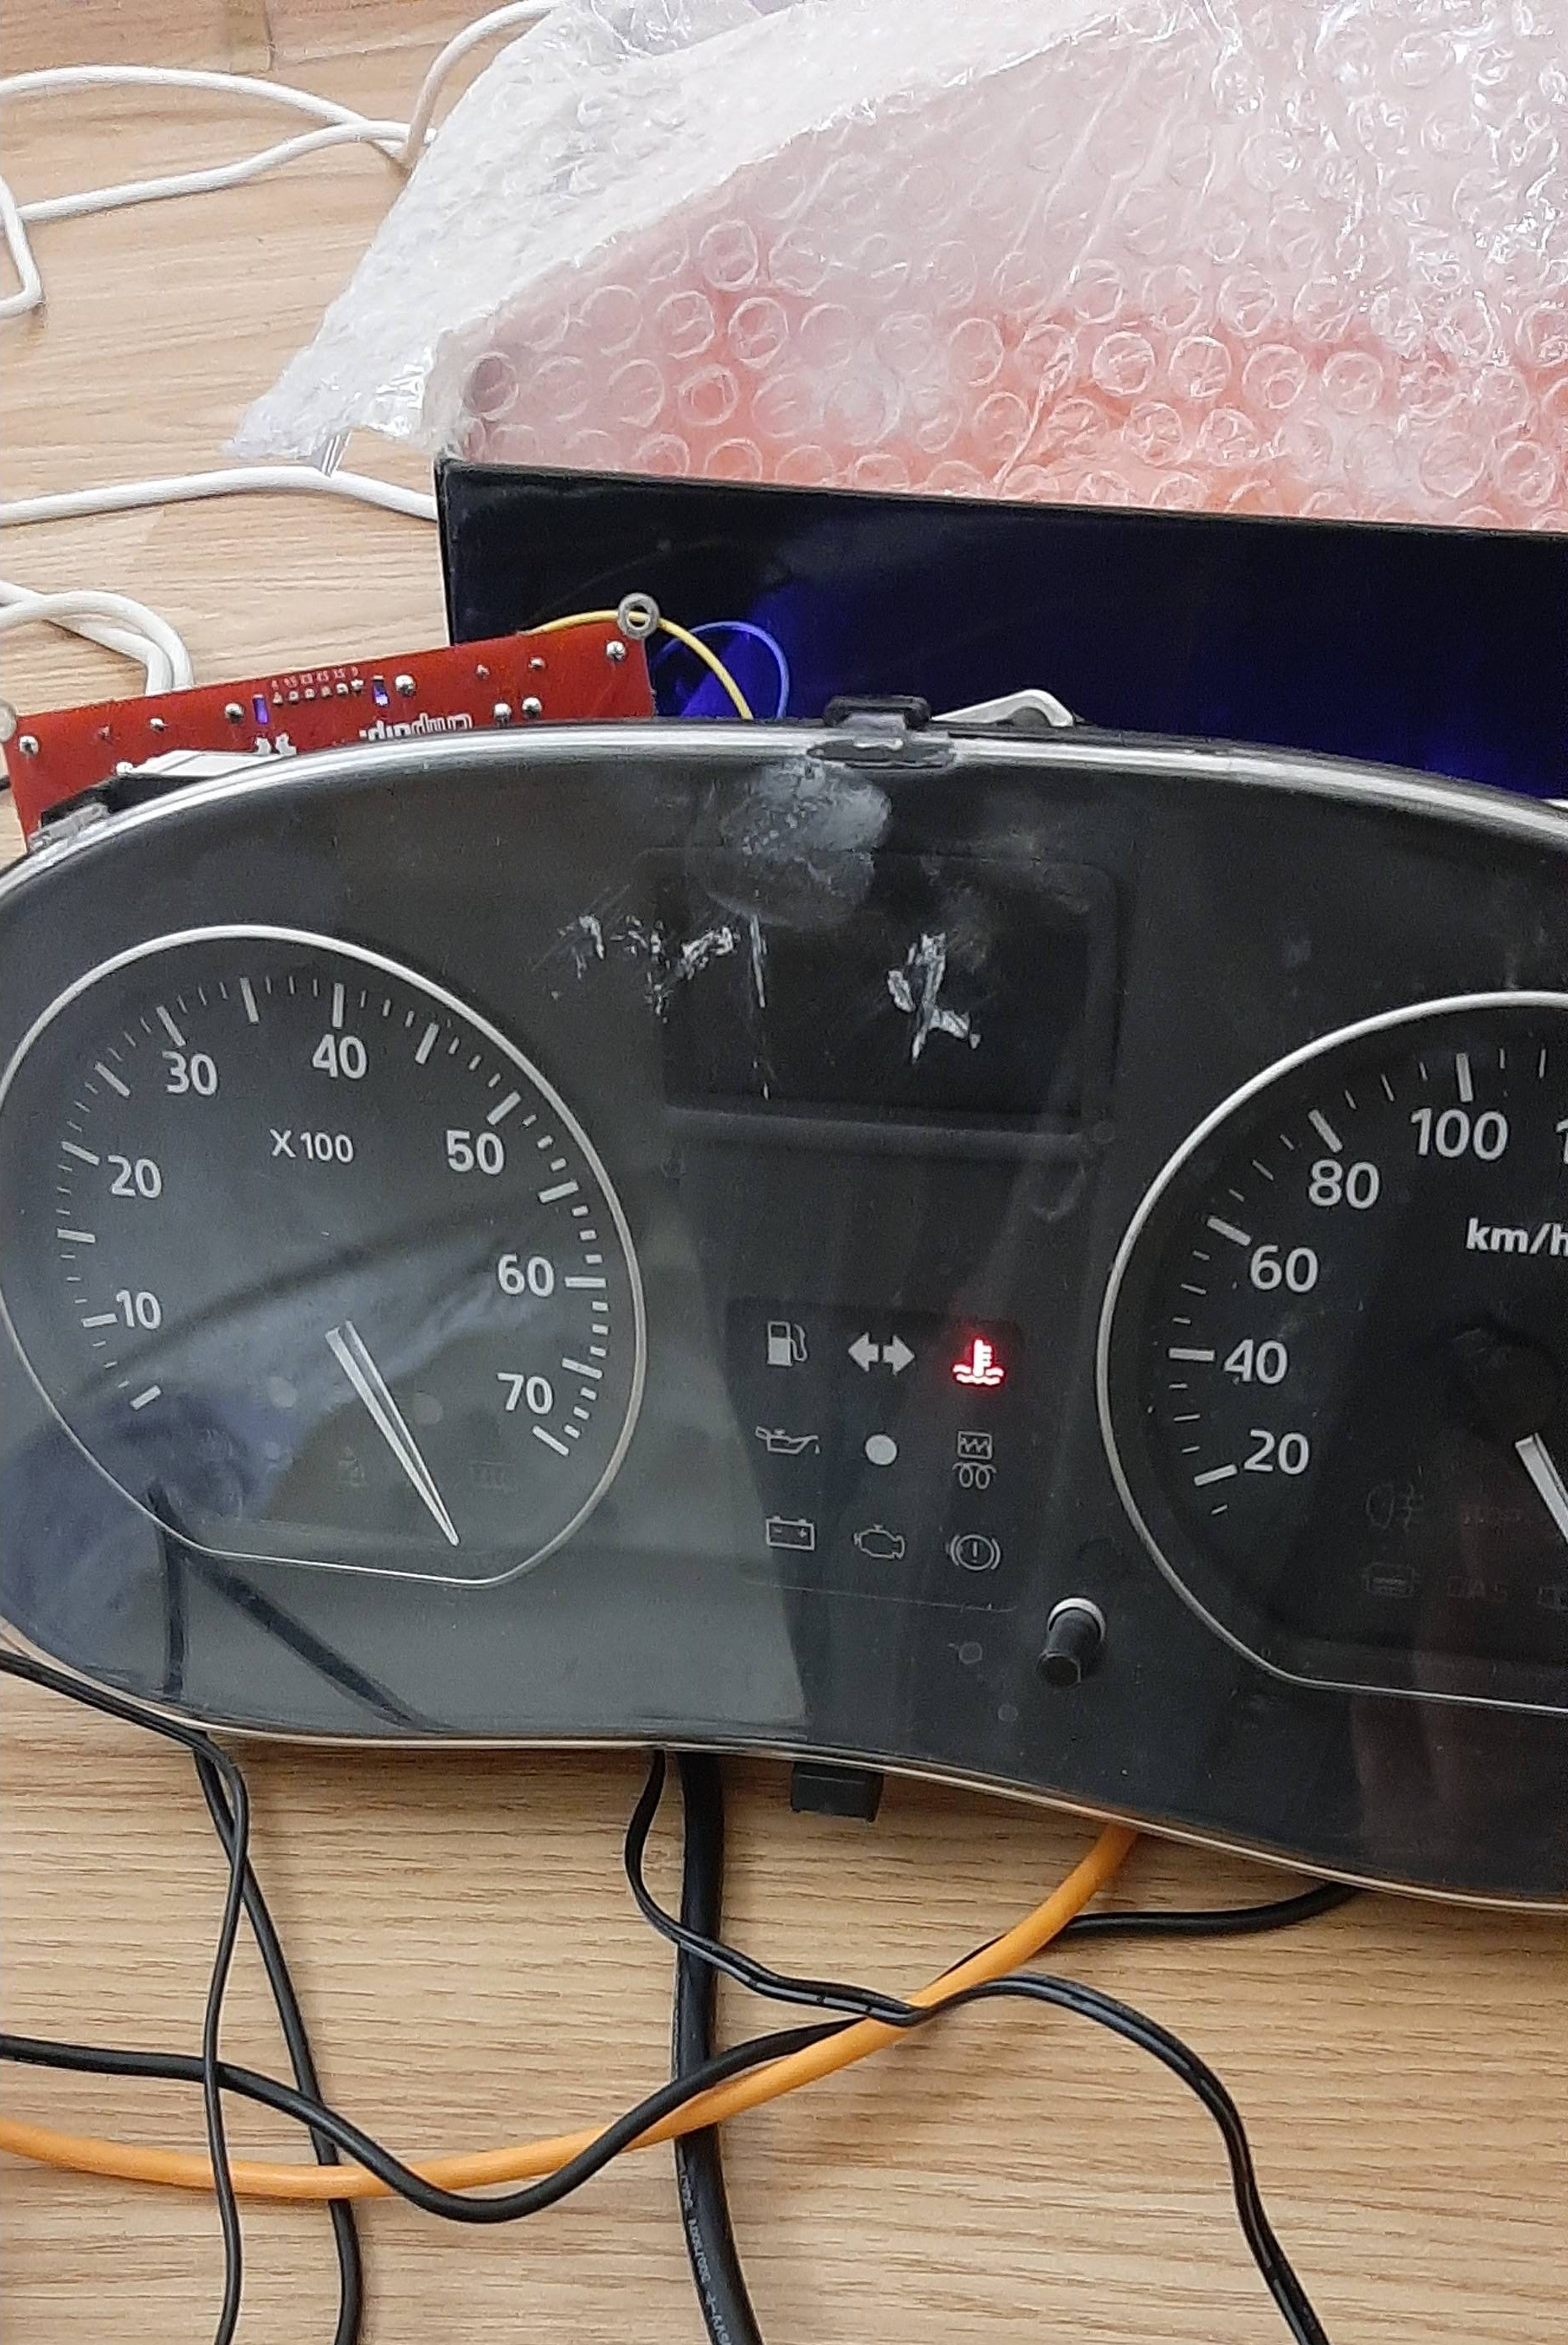Engine Overheating27: (952, 1337, 1008, 1389)
